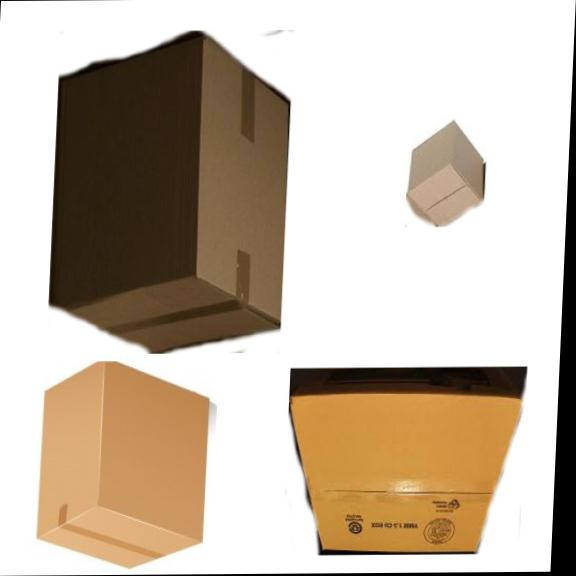Kertas: (49, 35, 288, 351), (289, 369, 520, 551), (37, 362, 207, 566), (406, 121, 484, 225)
